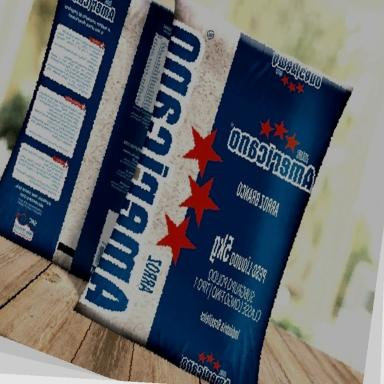rice package: (77, 0, 351, 383), (0, 0, 150, 268), (70, 3, 173, 281)
